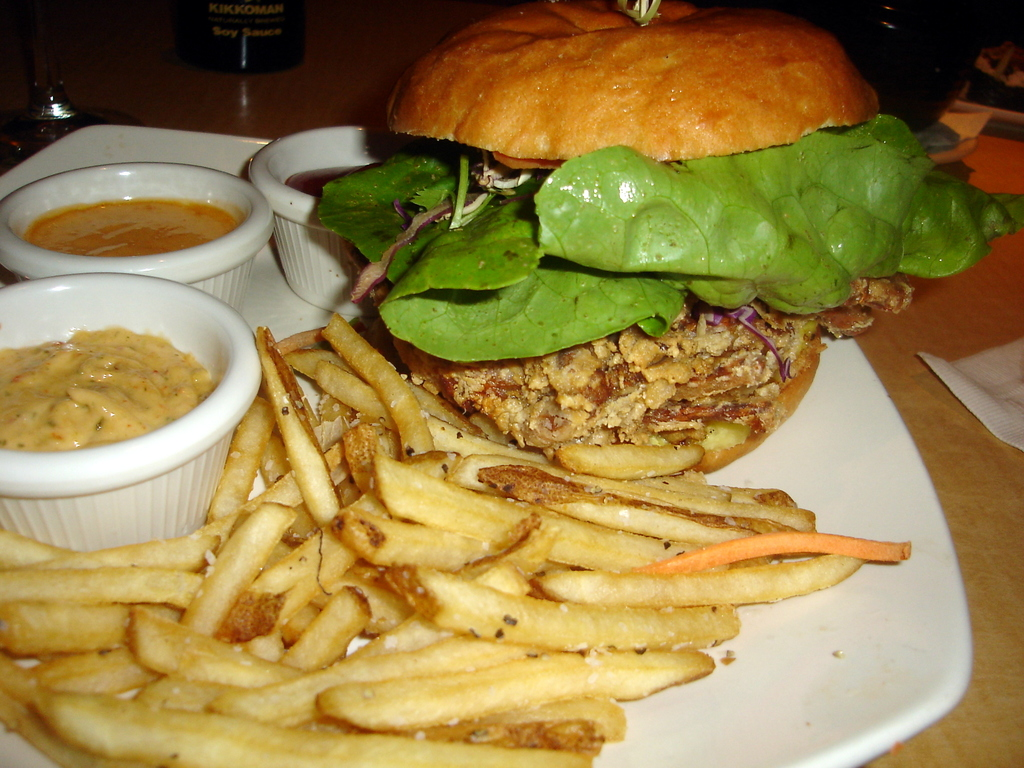French fries: (64, 304, 875, 753)
